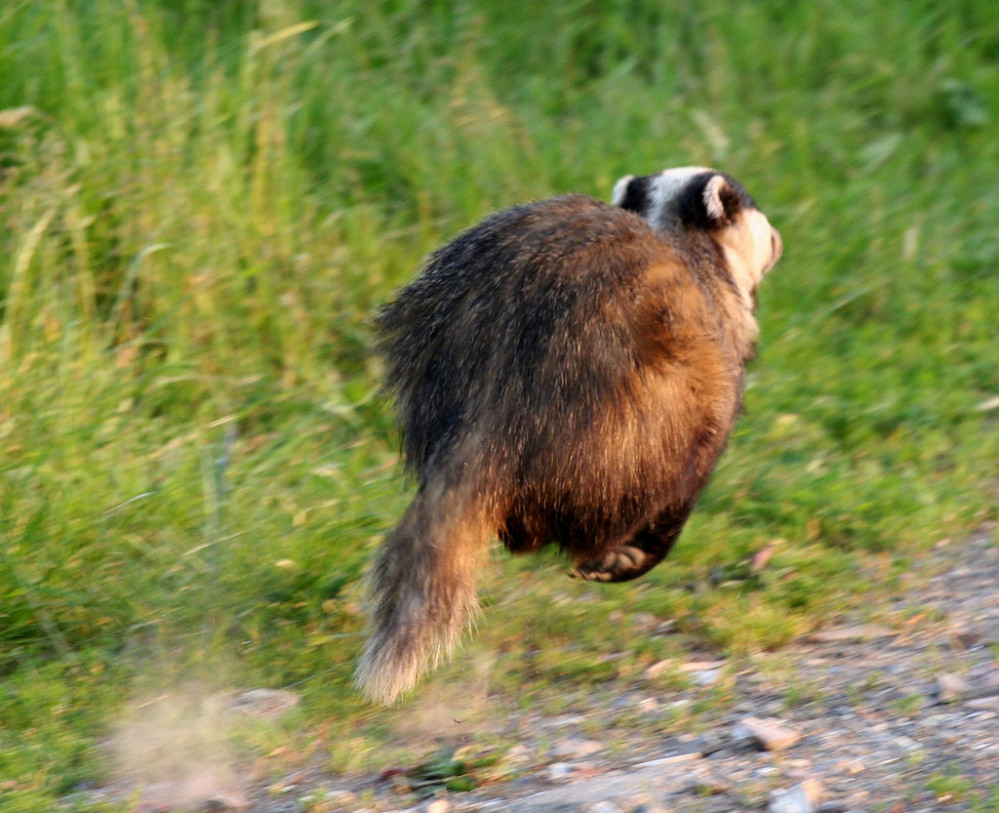badger: (354, 147, 785, 708)
